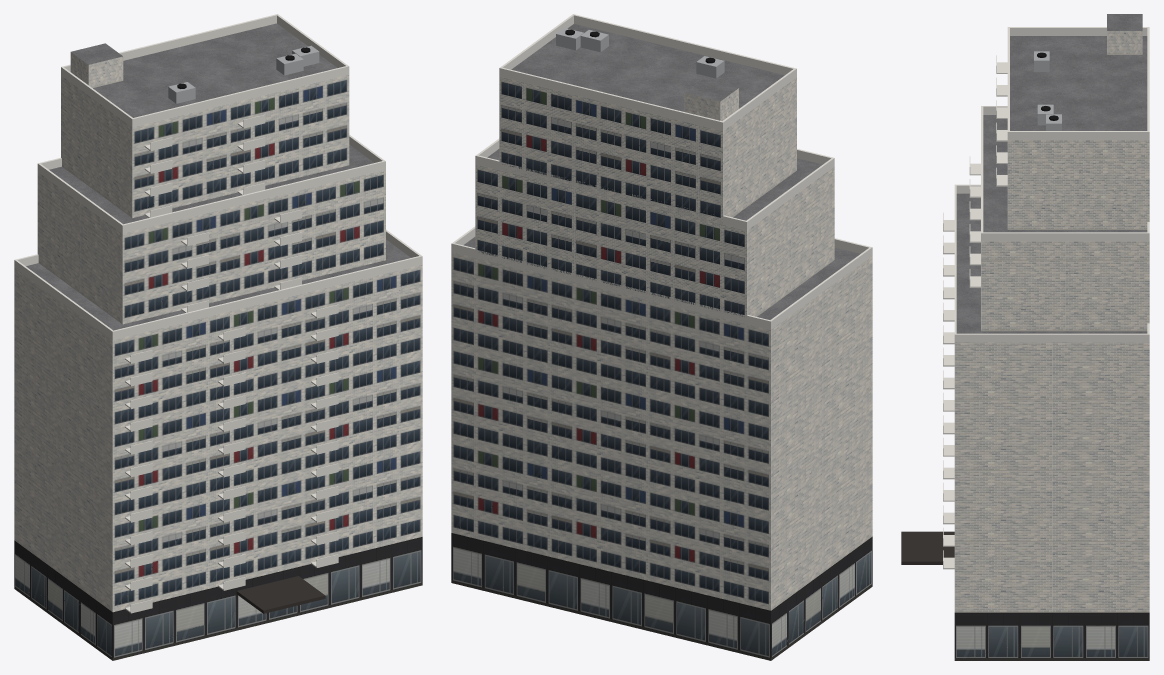
File: 021_postwar_whitebrick.glb
3 views of the same model, side by side, from view 1: azimuth 30°, elevation 25°; view 2: azimuth 150°, elevation 25°; view 3: azimuth 270°, elevation 25° (orthographic). The views are drawn at different scales.
Parts seen in each view (by area): view 1: 021_postwar_whitebrick; view 2: 021_postwar_whitebrick; view 3: 021_postwar_whitebrick.
Part boxes in pixels (left/top/right/bottom): 021_postwar_whitebrick: left=14, top=14, right=422, bottom=660; 021_postwar_whitebrick: left=451, top=14, right=872, bottom=660; 021_postwar_whitebrick: left=901, top=14, right=1149, bottom=660.
Size of the model in its own units: 40 by 65 by 28.
8 materials, 4 textured.
